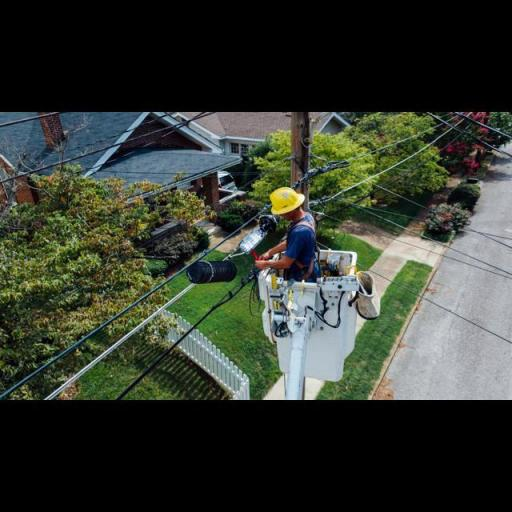Person: (253, 170, 354, 290)
helmet: (266, 182, 312, 214)
none: (247, 242, 273, 273)
vest: (279, 210, 325, 278)
